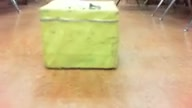cube: (38, 1, 119, 69)
